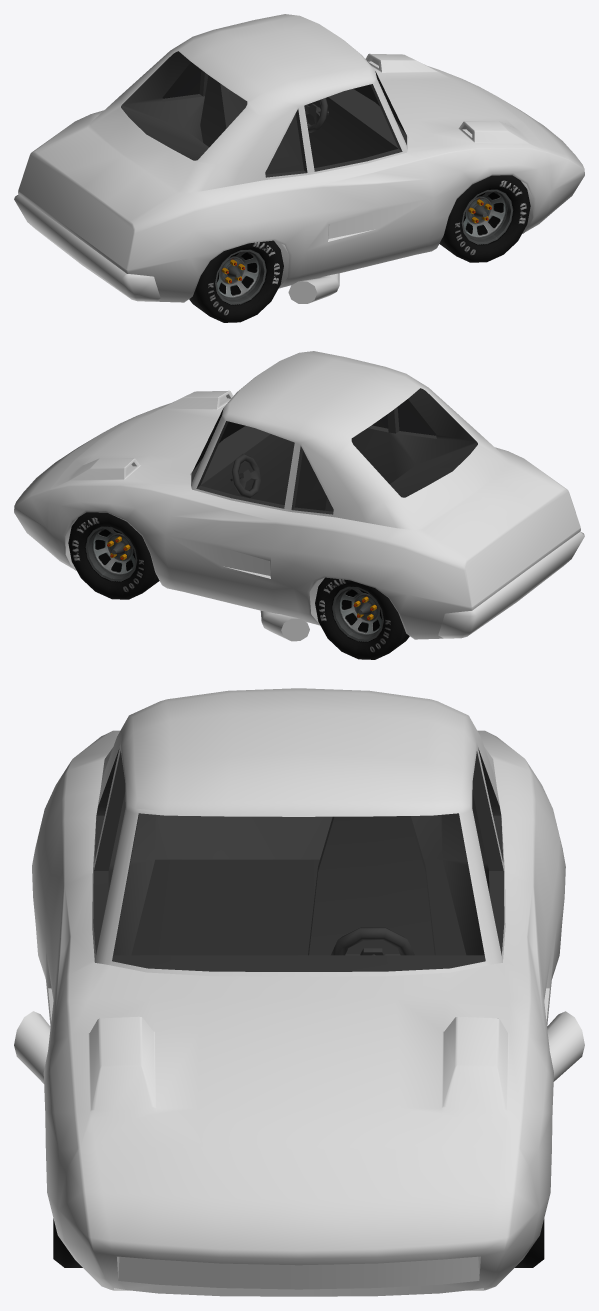
3 views of the same model, one above another, from view 1: azimuth 30°, elevation 25°; view 2: azimuth 150°, elevation 25°; view 3: azimuth 270°, elevation 25° (orthographic). The views are drawn at different scales.
Visible parts, largest first — view 1: CarBody, Glass, TireFrontR, TireRearR; view 2: CarBody, Glass, TireFrontL, TireRearL; view 3: CarBody, Glass.
Boxes of the visible parts, left/top/right/bottom form: CarBody: left=14, top=14, right=584, bottom=303; Glass: left=121, top=51, right=406, bottom=177; TireFrontR: left=439, top=175, right=530, bottom=262; TireRearR: left=189, top=240, right=283, bottom=322; CarBody: left=14, top=351, right=584, bottom=641; Glass: left=192, top=388, right=477, bottom=514; TireFrontL: left=68, top=512, right=159, bottom=599; TireRearL: left=315, top=577, right=409, bottom=659; CarBody: left=14, top=688, right=584, bottom=1296; Glass: left=93, top=748, right=504, bottom=971.
Bounding box in the file's own units: 254 × 105 × 139.
